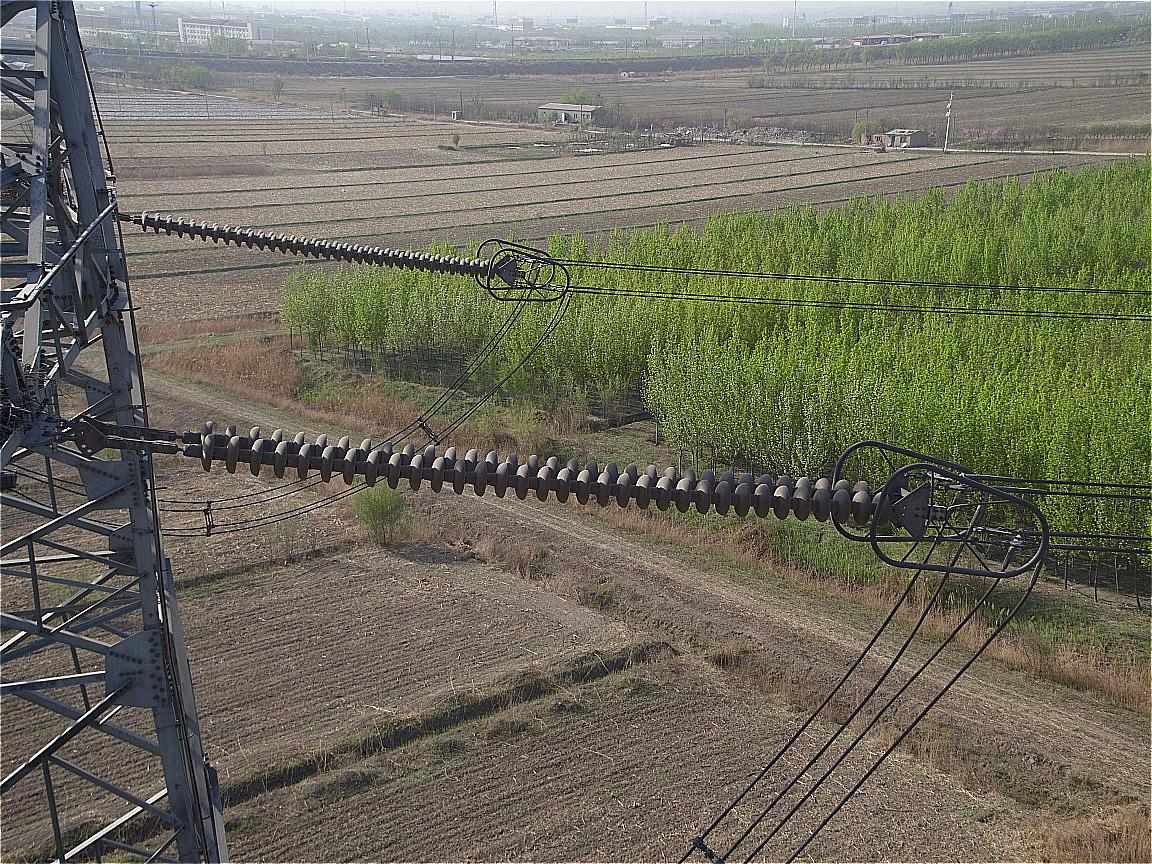insultor1: (201, 417, 874, 525), (140, 210, 495, 280)
